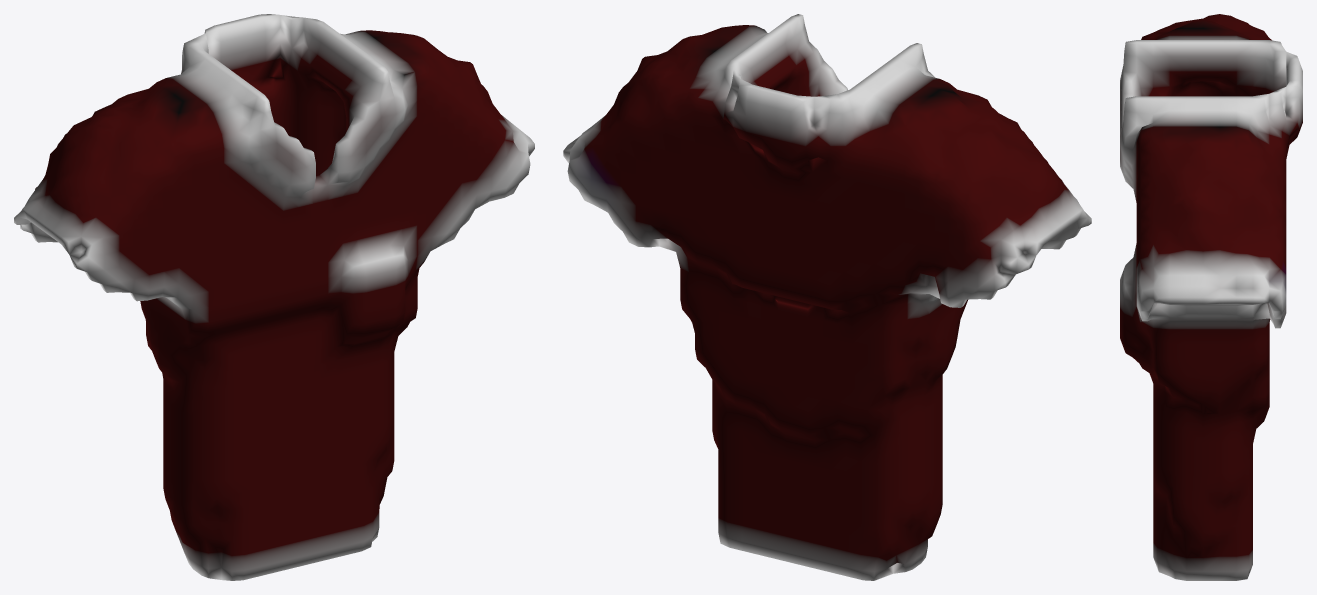
3 views of the same model, side by side, from view 1: azimuth 30°, elevation 25°; view 2: azimuth 150°, elevation 25°; view 3: azimuth 270°, elevation 25° (orthographic). The views are drawn at different scales.
Size of the model in its own units: 1.58 by 1.59 by 0.55.
